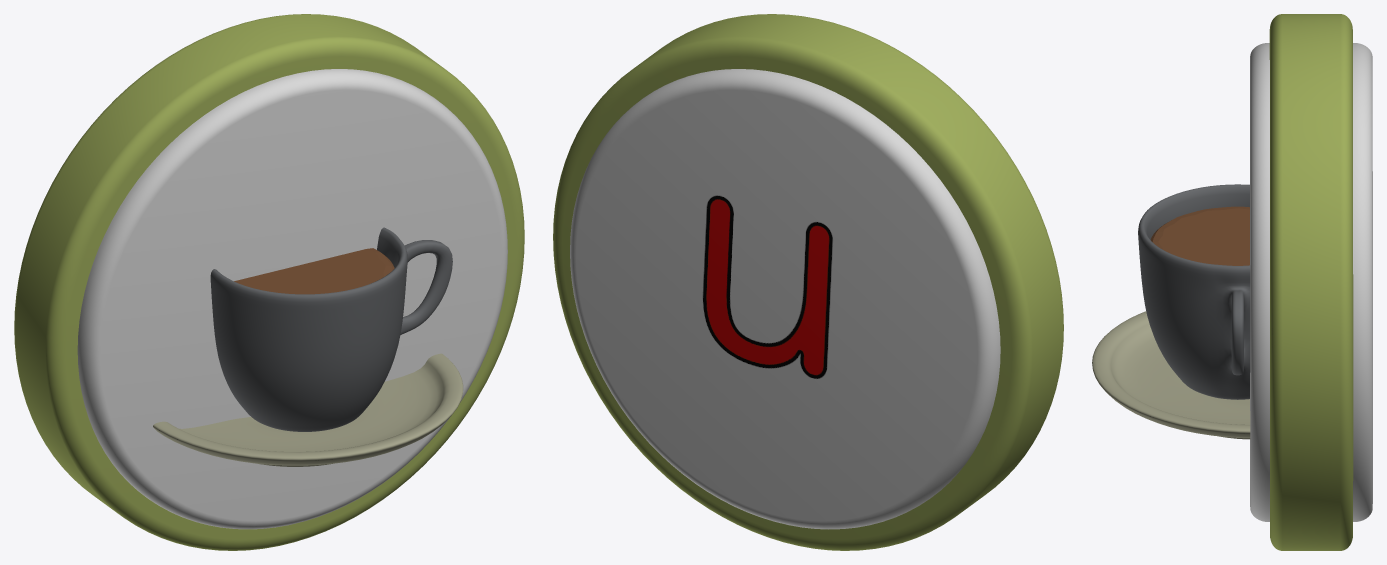
The model's file is cup.gltf.
The picture shows the model from 3 angles, left to right: view 1: azimuth 30°, elevation 25°; view 2: azimuth 150°, elevation 25°; view 3: azimuth 270°, elevation 25°; orthographic projection. The views are drawn at different scales.
Visible parts, largest first — view 1: Cylinder_2, Cylinder.001, Cylinder, Cylinder.007; view 2: Cylinder_2, Cylinder.001; view 3: Cylinder.001, Cylinder, Cylinder_2, Cylinder.007.
Boxes of the visible parts, x1,y1,x2,y2 form: Cylinder_2: (77,69,507,529); Cylinder.001: (14,14,524,550); Cylinder: (210,227,452,431); Cylinder.007: (153,353,463,466); Cylinder_2: (570,69,1000,529); Cylinder.001: (553,14,1063,550); Cylinder.001: (1269,14,1353,550); Cylinder: (1138,184,1250,399); Cylinder_2: (1250,43,1372,521); Cylinder.007: (1092,311,1250,439).
Size of the model in its own units: 2.56 by 2.56 by 1.34.
5 materials, 1 textured.
